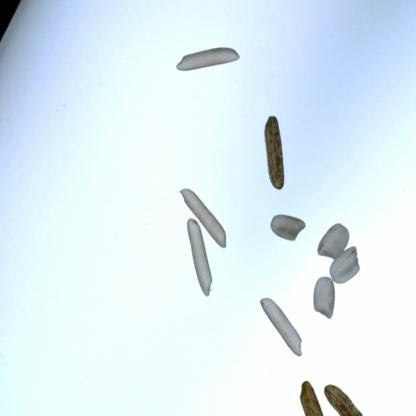Full: (168, 186, 238, 247), (252, 295, 312, 359), (171, 44, 244, 89), (183, 219, 219, 303), (257, 118, 292, 200), (268, 215, 314, 257), (310, 279, 349, 326), (316, 220, 351, 268), (328, 242, 362, 291), (332, 380, 378, 416), (293, 380, 327, 416)
